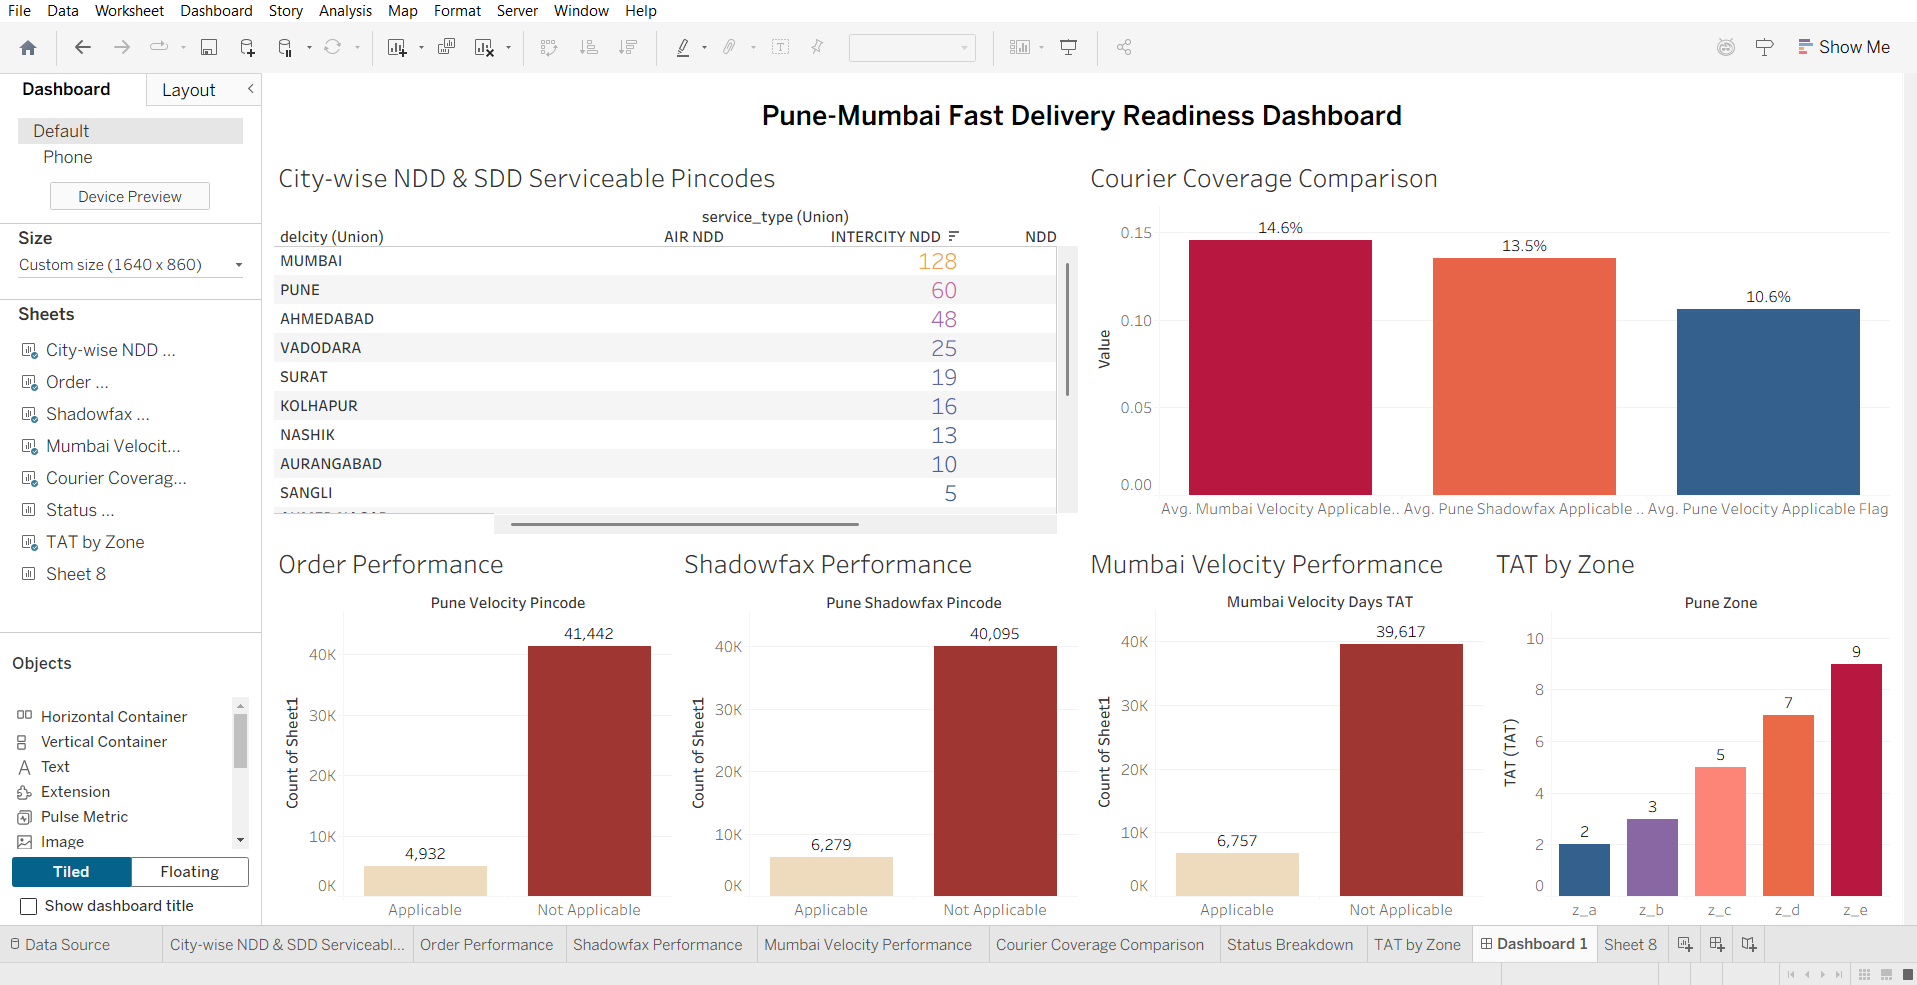

This screenshot's page, from the dashboard's own definition file:
{"tool":"tableau","page":{"name":"Dashboard 1","canvas":[1640,860],"ordinal":0},"visuals":[{"type":"text","box":[8,8,1624,70.7]},{"type":"worksheet","title":"City-wise NDD & SDD Serviceable Pincodes","mark":"Automatic","rows":["delcity (Union)"],"cols":["service_type (Union)"],"box":[8,78.7,811.9,386.6]},{"type":"worksheet","title":"Courier Coverage Comparison","mark":"Automatic","box":[819.9,78.7,812.1,386.6]},{"type":"worksheet","title":"Order Performance","mark":"Automatic","rows":["Sheet1_871ADD92F91E4F7990829265C0C2A630"],"cols":["Pune Velocity Pincode"],"box":[8,465.3,405.9,386.7]},{"type":"worksheet","title":"Shadowfax Performance","mark":"Automatic","rows":["Sheet1_871ADD92F91E4F7990829265C0C2A630"],"cols":["Pune Shadowfax Pincode"],"box":[413.9,465.3,406,386.7]},{"type":"worksheet","title":"Mumbai Velocity Performance","mark":"Automatic","rows":["Sheet1_871ADD92F91E4F7990829265C0C2A630"],"cols":["Mumbai Velocity Days TAT"],"box":[819.9,465.3,406,386.7]},{"type":"worksheet","title":"TAT by Zone","mark":"Automatic","rows":["TAT"],"cols":["Pune Zone"],"box":[1225.9,465.3,406.1,386.7]}]}

Visuals, with their boxes on the page's 1640x860 design canvas (x1, y1, x2, y2). These are canvas units, not pixel positions in the 1917x985 screenshot, which may show the page scaled, cropped or inside an application window:
text: detection(8, 8, 1632, 79)
"City-wise NDD & SDD Serviceable Pincodes" worksheet: detection(8, 79, 820, 465)
"Courier Coverage Comparison" worksheet: detection(820, 79, 1632, 465)
"Order Performance" worksheet: detection(8, 465, 414, 852)
"Shadowfax Performance" worksheet: detection(414, 465, 820, 852)
"Mumbai Velocity Performance" worksheet: detection(820, 465, 1226, 852)
"TAT by Zone" worksheet: detection(1226, 465, 1632, 852)
